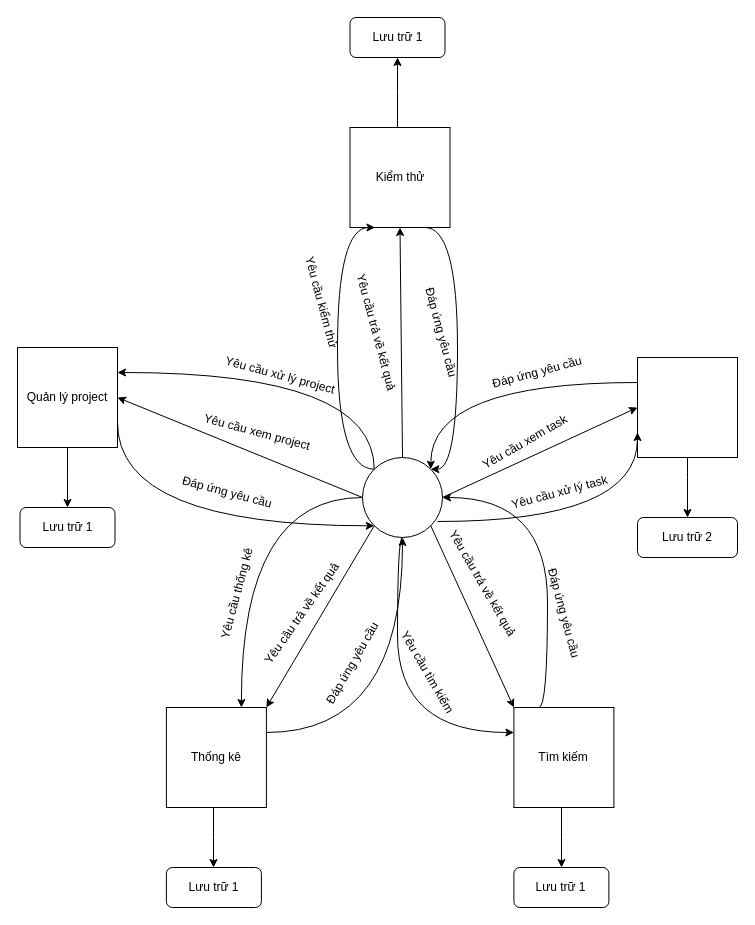
Some shapes in this 755 by 925 pixel diagram are drawn without their labels. The shapes that lost their labels are listed below. From the top down, each one's centre as x and y in pixels, then its label:
At (687,407): "Quản lý task".
At (402,497): "Người dùng".
